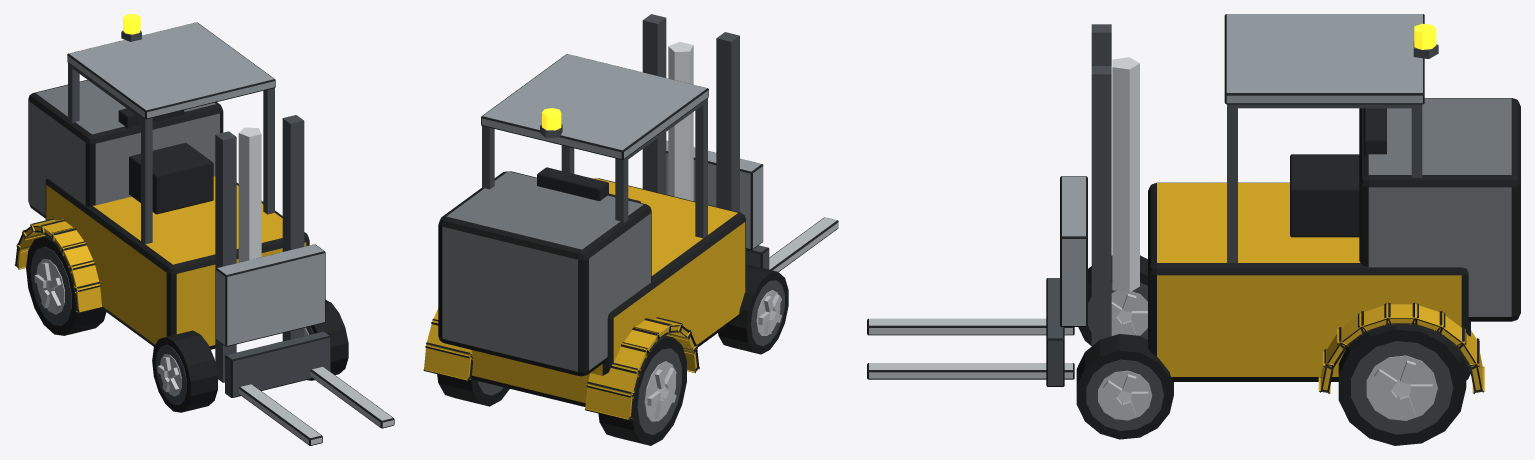
File: veh_forklift.glb
3 views of the same model, side by side, from view 1: azimuth 30°, elevation 25°; view 2: azimuth 150°, elevation 25°; view 3: azimuth 270°, elevation 25° (orthographic). The views are drawn at different scales.
Visible parts, largest first — view 1: veh_forklift; view 2: veh_forklift; view 3: veh_forklift.
Part boxes in pixels (<box>): veh_forklift: <box>14,14,394,445</box>; veh_forklift: <box>423,14,838,445</box>; veh_forklift: <box>867,14,1520,445</box>.
Size of the model in its own units: 1.79 by 2.6 by 4.25.
